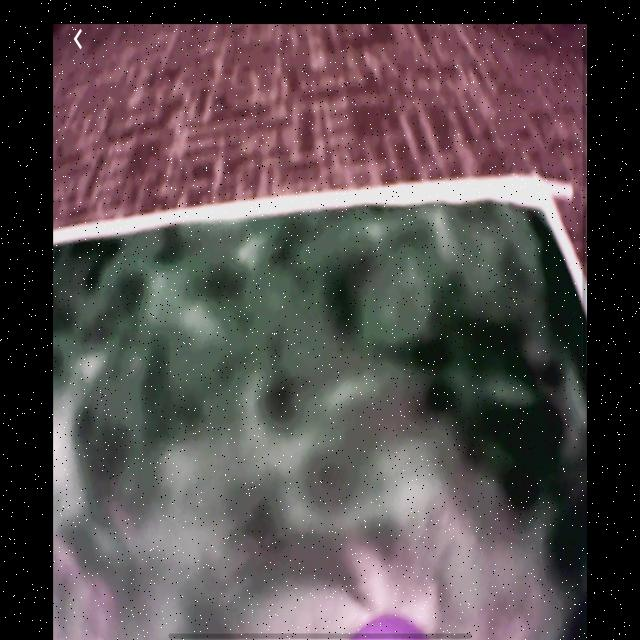ball: (351, 612, 426, 638)
